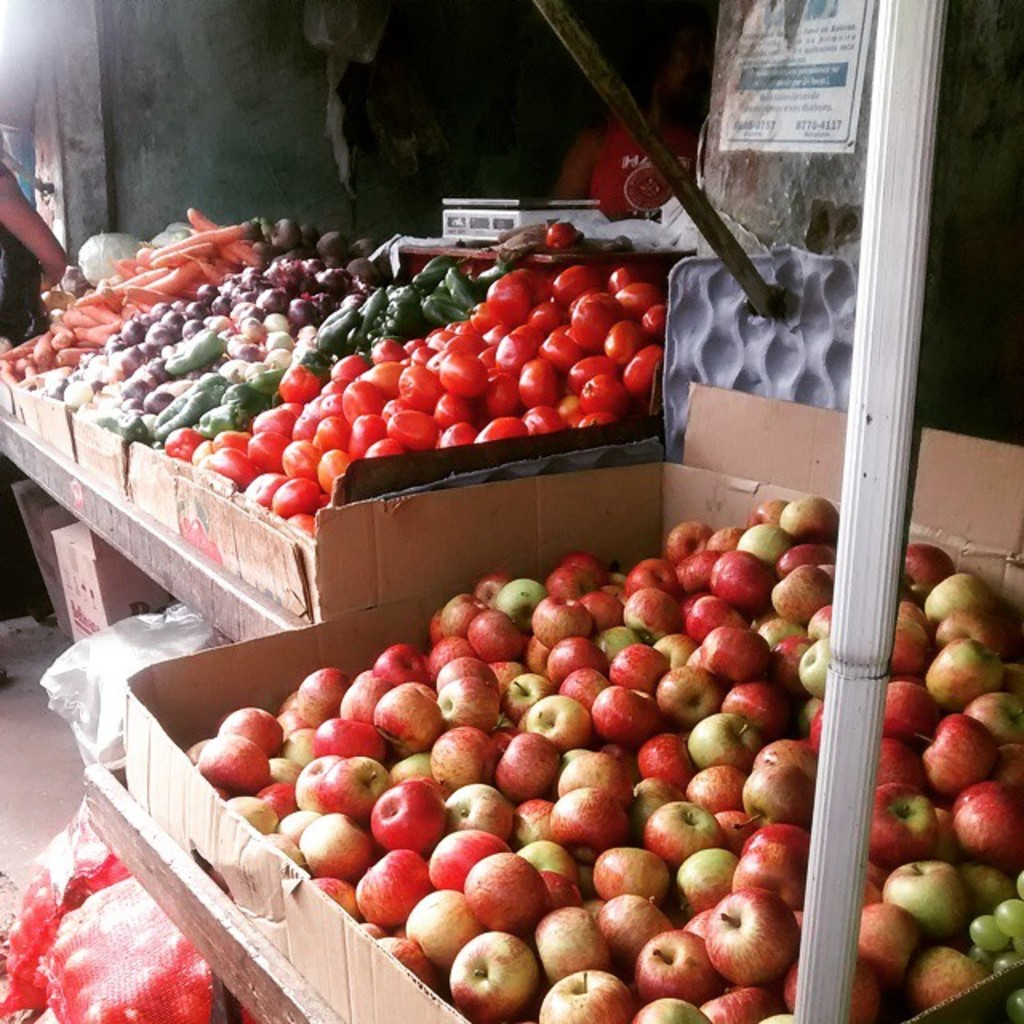Tomato: (160, 268, 668, 532), (571, 366, 627, 417)
